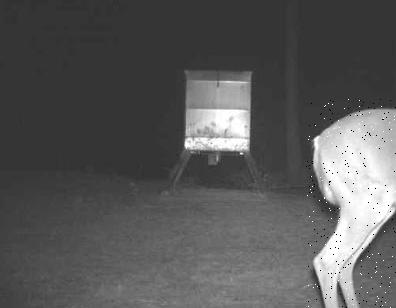Deer: (306, 99, 396, 308)
